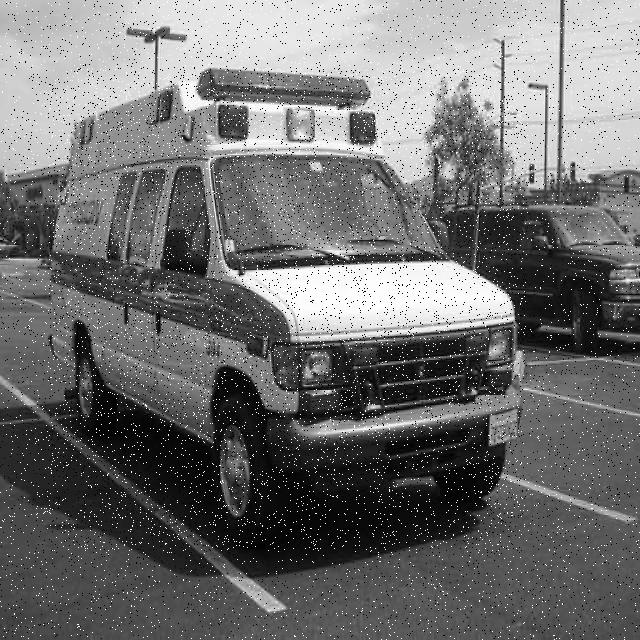Ambulance: (48, 68, 525, 551)
